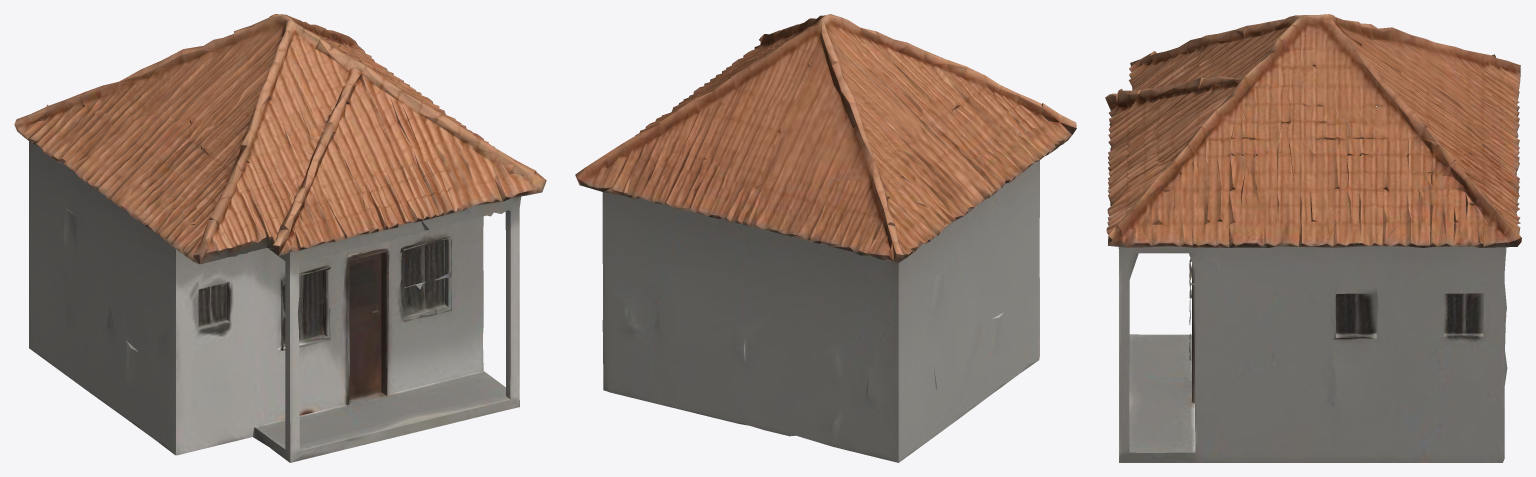
File: predio_casa1.glb
The picture shows the model from 3 angles, left to right: view 1: azimuth 30°, elevation 25°; view 2: azimuth 150°, elevation 25°; view 3: azimuth 270°, elevation 25°; orthographic projection. The views are drawn at different scales.
Visible parts, largest first — view 1: tripo_node_ec0d9166-7f44-4936-a22e-6a542e2cdea4; view 2: tripo_node_ec0d9166-7f44-4936-a22e-6a542e2cdea4; view 3: tripo_node_ec0d9166-7f44-4936-a22e-6a542e2cdea4.
Part boxes in pixels (x1,y1,x2,y2): tripo_node_ec0d9166-7f44-4936-a22e-6a542e2cdea4: (14, 14, 546, 462); tripo_node_ec0d9166-7f44-4936-a22e-6a542e2cdea4: (575, 14, 1076, 462); tripo_node_ec0d9166-7f44-4936-a22e-6a542e2cdea4: (1105, 14, 1521, 462).
Size of the model in its own units: 0.9997 by 0.9956 by 1.
1 material, 1 textured.
